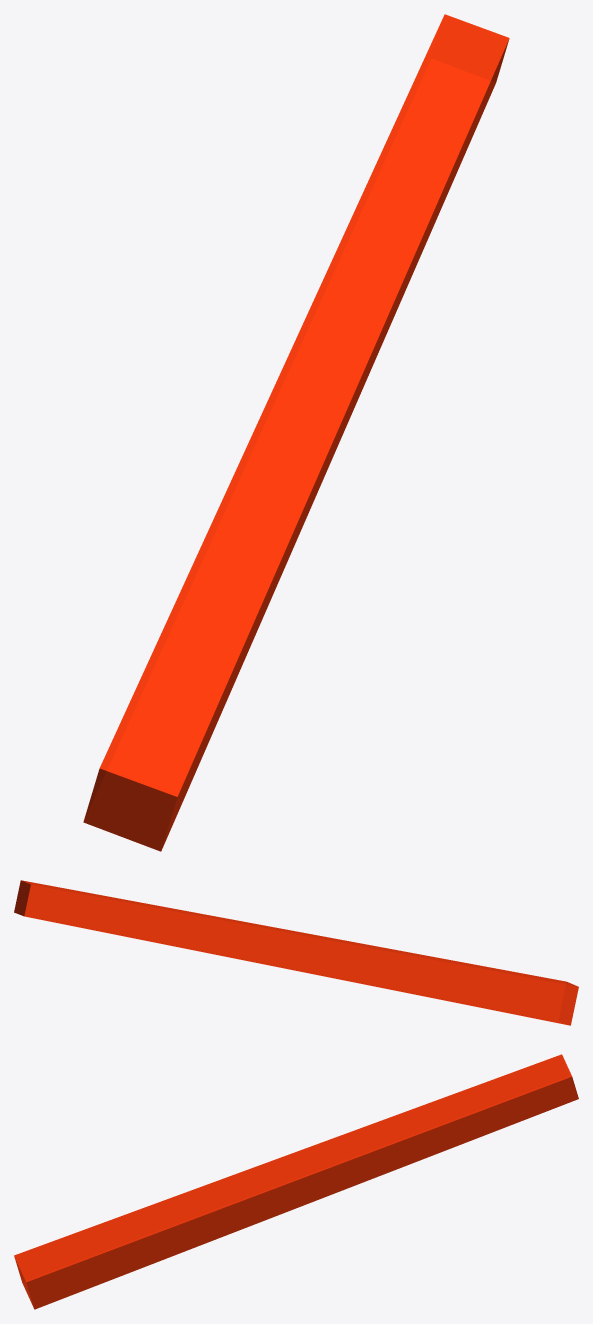
File: Event_421115418_EBrechit_8.fbx
3 views of the same model, one above another, from view 1: azimuth 30°, elevation 25°; view 2: azimuth 150°, elevation 25°; view 3: azimuth 330°, elevation 25° (orthographic). The views are drawn at different scales.
Parts seen in each view (by area): view 1: Model; view 2: Model; view 3: Model.
Part boxes in pixels (x1,y1,x2,y2): Model: (83, 14, 509, 851); Model: (14, 880, 578, 1025); Model: (14, 1054, 578, 1309).
Size of the model in its own units: 0.7463 by 0.3662 by 0.7036.
